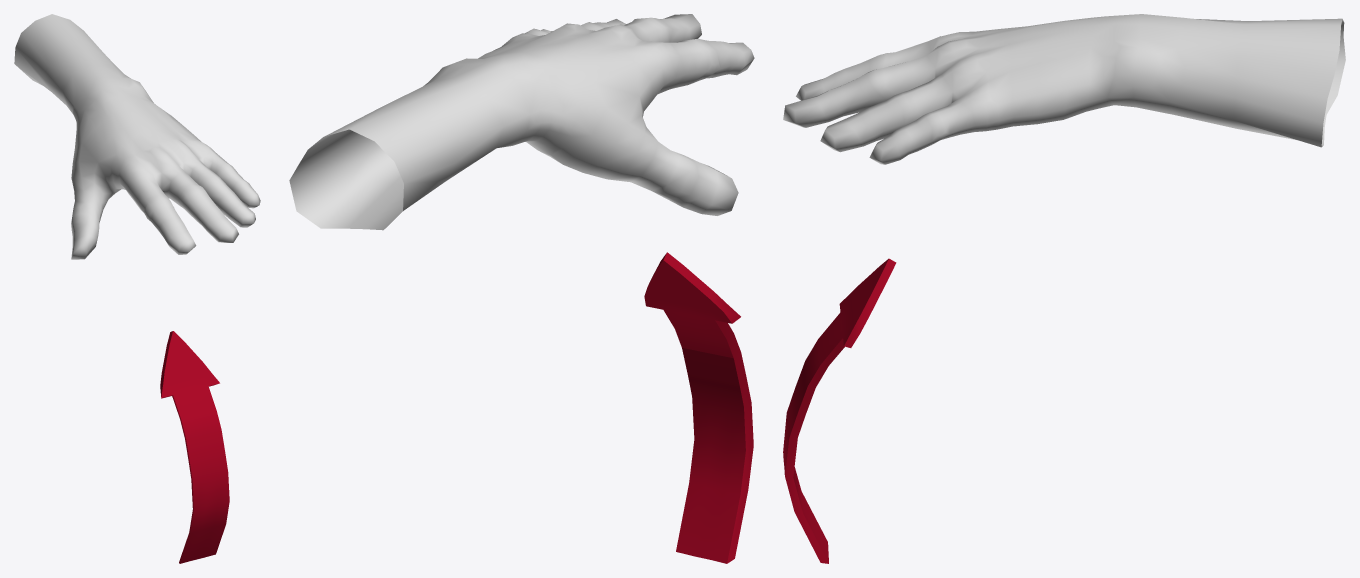
The model's file is IconPick.fbx.
3 renders of one model, left to right at view 1: azimuth 30°, elevation 25°; view 2: azimuth 150°, elevation 25°; view 3: azimuth 270°, elevation 25°, orthographic. The views are drawn at different scales.
Visible parts, largest first — view 1: feet_hands:hand_man:polySurface1, pCube2; view 2: feet_hands:hand_man:polySurface1, pCube2; view 3: feet_hands:hand_man:polySurface1, pCube2.
Part boxes in pixels (<box>): feet_hands:hand_man:polySurface1: <box>14,14,260,259</box>; pCube2: <box>160,331,229,563</box>; feet_hands:hand_man:polySurface1: <box>289,14,754,230</box>; pCube2: <box>644,252,753,563</box>; feet_hands:hand_man:polySurface1: <box>783,14,1345,164</box>; pCube2: <box>783,258,896,563</box>.
Size of the model in its own units: 6.6 by 15.85 by 14.54.
